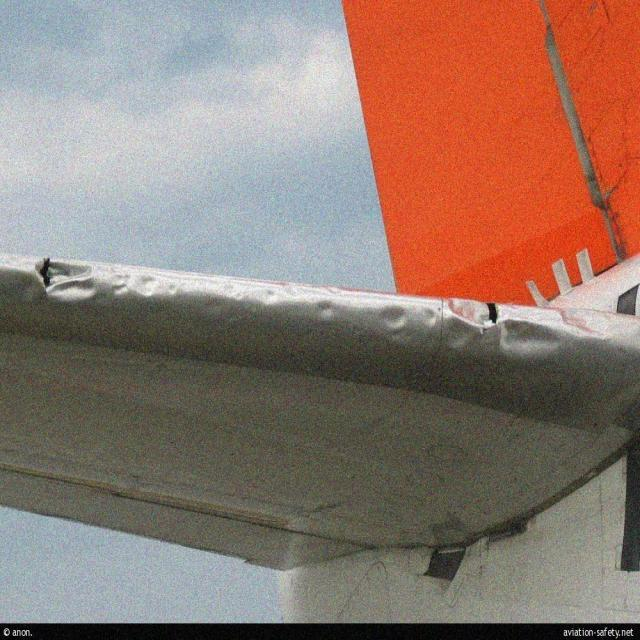dent: (35, 254, 99, 307), (498, 320, 563, 358), (227, 277, 298, 304), (561, 310, 613, 341), (452, 298, 503, 328), (447, 319, 474, 353), (378, 308, 410, 331), (138, 275, 163, 298), (116, 273, 132, 299), (322, 302, 337, 321)
